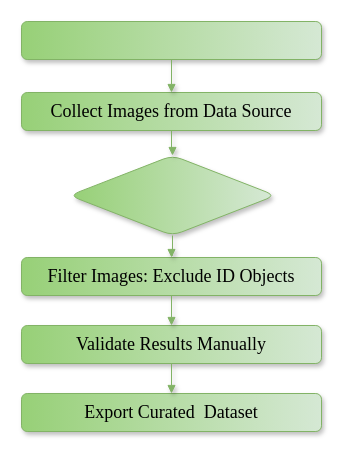
This 345x456 diagram has some shape labels left out. The centre of each missing label's shape, as x and y in pixels:
"Define Target Categories" belongs at point 172,41.
"Run YOLOE Inference" belongs at point 173,196.
